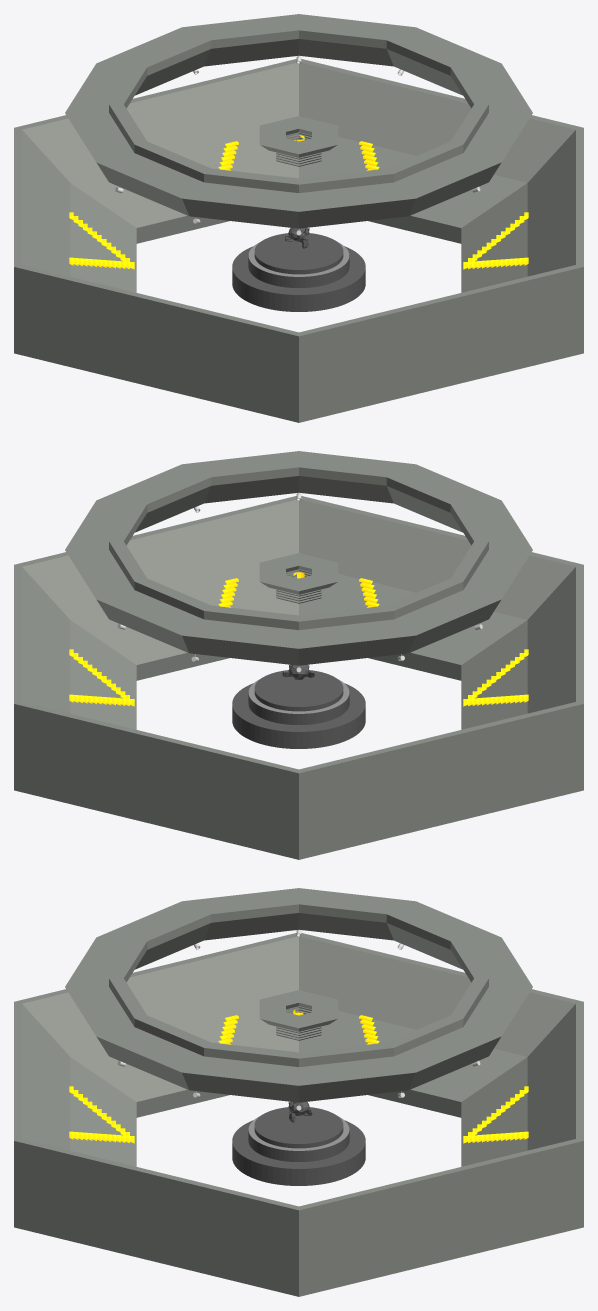
File: stage_beam.fbx
The picture shows the model from 3 angles, top to bottom: view 1: azimuth 30°, elevation 25°; view 2: azimuth 150°, elevation 25°; view 3: azimuth 270°, elevation 25°; orthographic projection.
Parts seen in each view (by area): view 1: Seats, Roof_Lightmounts, Center_Platform, Stairs, Center_Spot_Top, Center_Spot_Rings; view 2: Seats, Roof_Lightmounts, Center_Platform, Stairs, Center_Spot_Top, Center_Spot_Rings; view 3: Seats, Roof_Lightmounts, Center_Platform, Stairs, Center_Spot_Top, Center_Spot_Rings.
Part boxes in pixels (x1,y1,x2,y2): Seats: [14, 59, 583, 422]; Roof_Lightmounts: [65, 14, 532, 228]; Center_Platform: [232, 233, 365, 311]; Stairs: [69, 141, 528, 269]; Center_Spot_Top: [259, 116, 338, 157]; Center_Spot_Rings: [276, 132, 321, 166]; Seats: [14, 496, 583, 859]; Roof_Lightmounts: [65, 451, 532, 665]; Center_Platform: [232, 670, 365, 748]; Stairs: [69, 578, 528, 706]; Center_Spot_Top: [259, 553, 338, 594]; Center_Spot_Rings: [276, 569, 321, 603]; Seats: [14, 933, 583, 1296]; Roof_Lightmounts: [65, 888, 532, 1102]; Center_Platform: [232, 1107, 365, 1185]; Stairs: [69, 1015, 528, 1143]; Center_Spot_Top: [259, 990, 338, 1031]; Center_Spot_Rings: [276, 1006, 321, 1040].
Size of the model in its own units: 34.9 by 10.5 by 30.22.
Materials: 6 (1 with a texture image).
